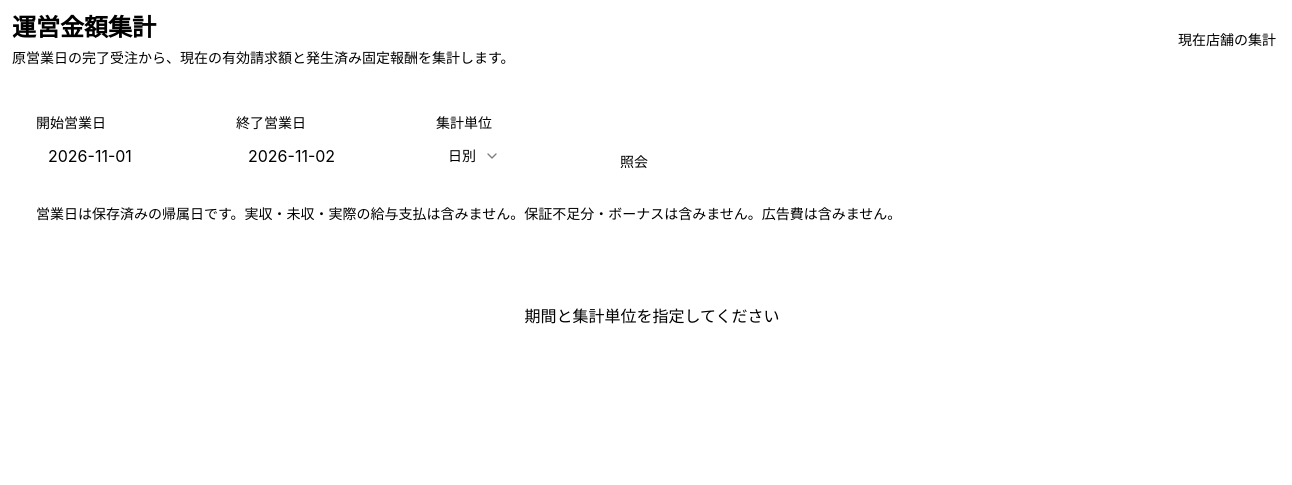
Scenario: late response for previous criteria is discarded
Click the button "照会" at (634, 162), box [604,144,664,180]
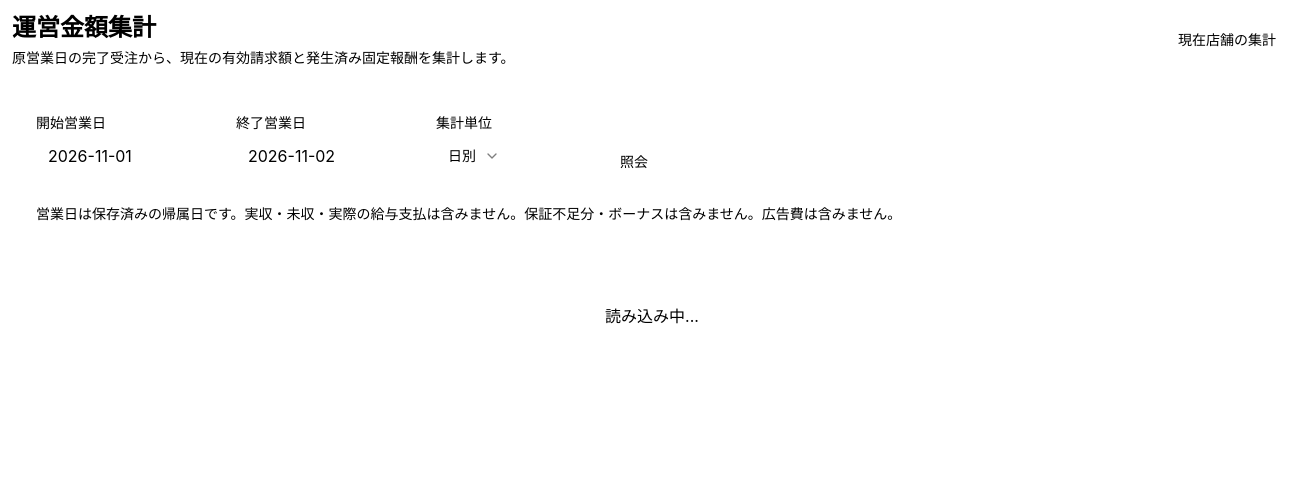
Replace the text in the field labelled "開始営業日" with "2026-09-01" at (124, 156), box [36,138,212,174]
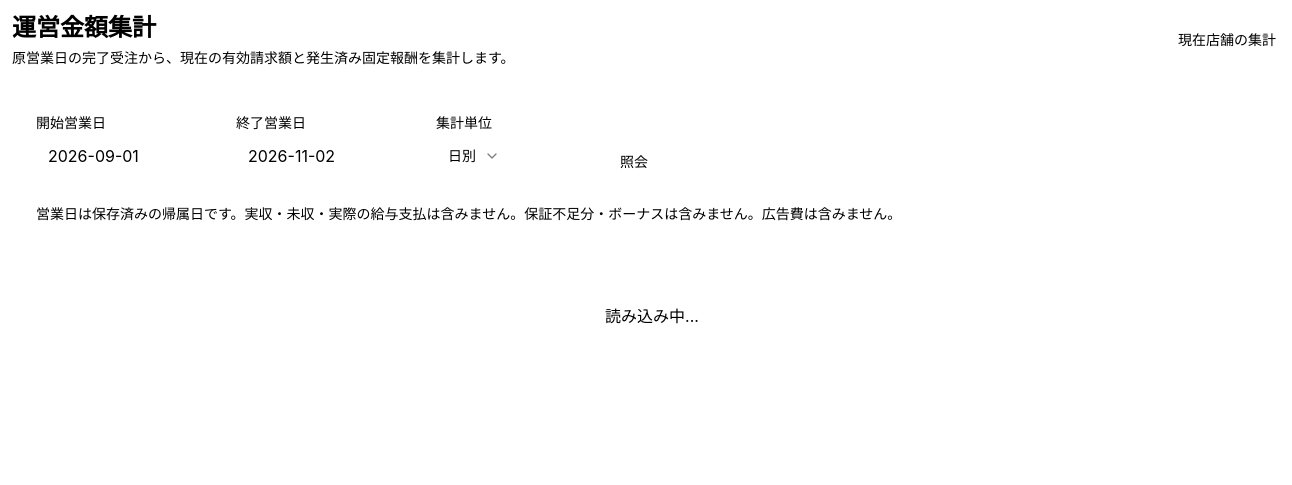
Replace the text in the field labelled "終了営業日" with "2026-09-30" at (324, 156), box [236,138,412,174]
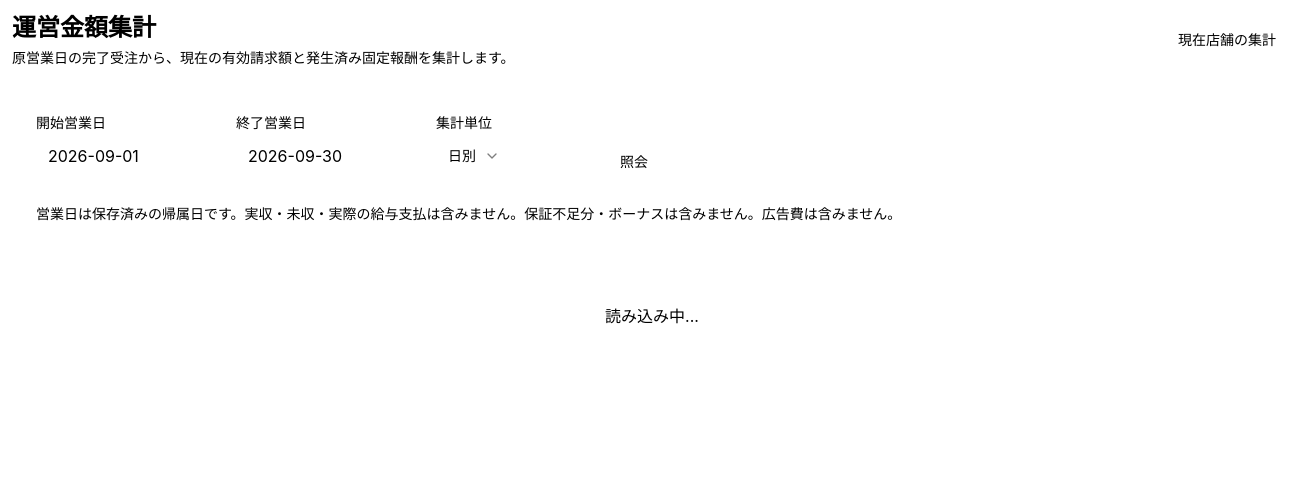
Click the button "照会" at (634, 162), box [604,144,664,180]
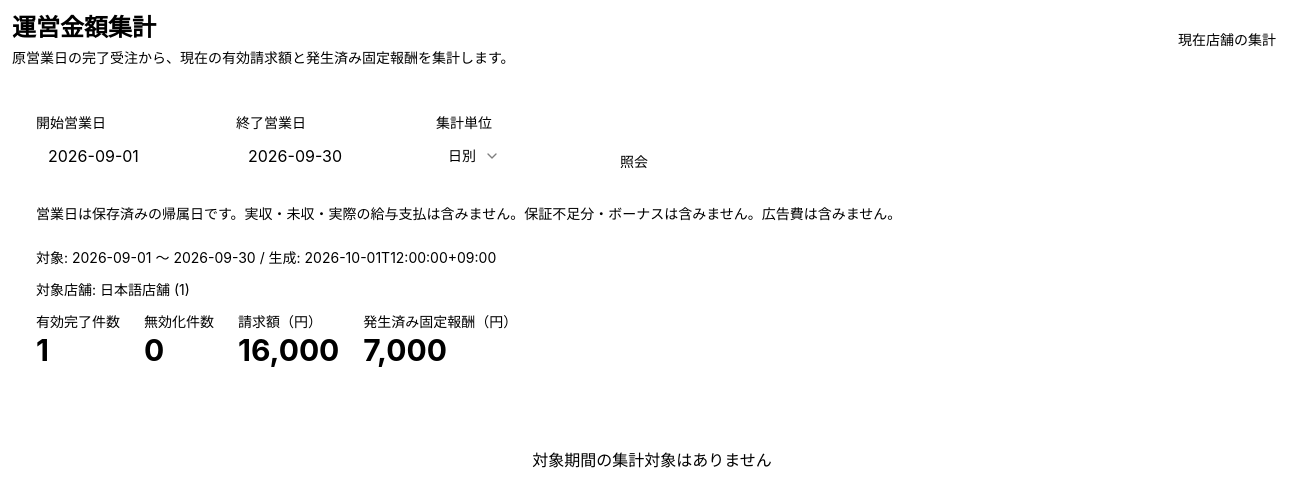
Result: the text named "請求額（円）" reads "16,000" at [238,332,339,368]
